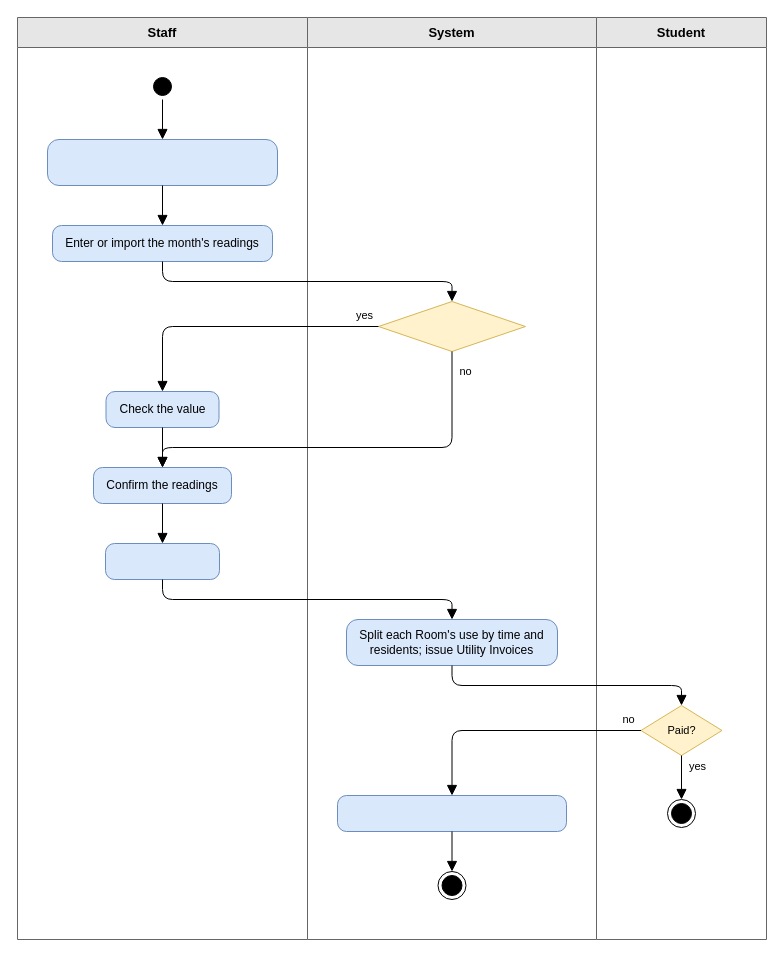
Some shapes in this 784 by 957 pixel diagram are drawn without their labels. The centre of each missing label's shape, as x and y in pixels:
Close the period: (x=162, y=561)
Meter cut when a resident moves in or out: (x=162, y=162)
Reading unusual?: (x=452, y=326)
Warnings; at the last level, termination: (x=451, y=813)
